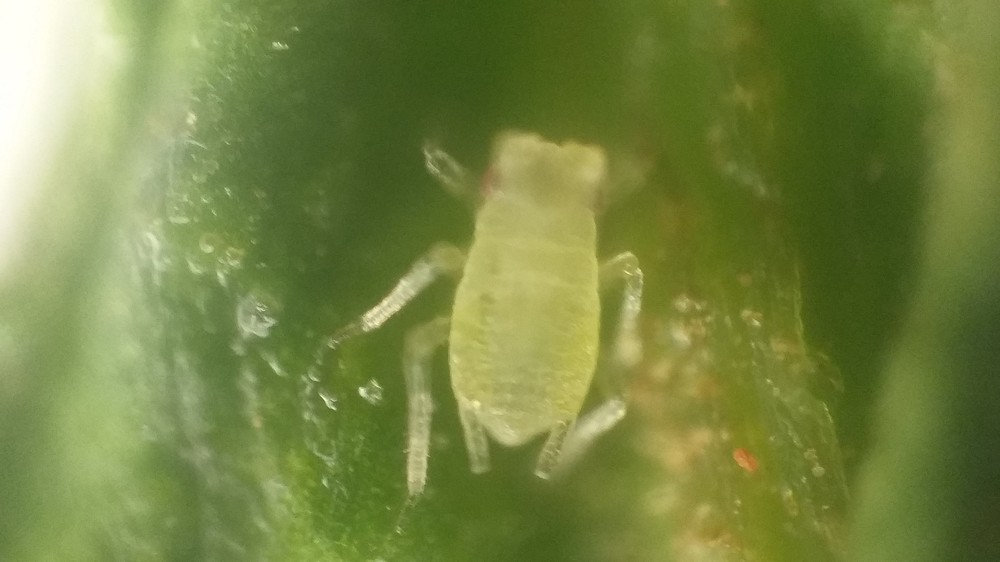Pulgon: (324, 96, 717, 535)
